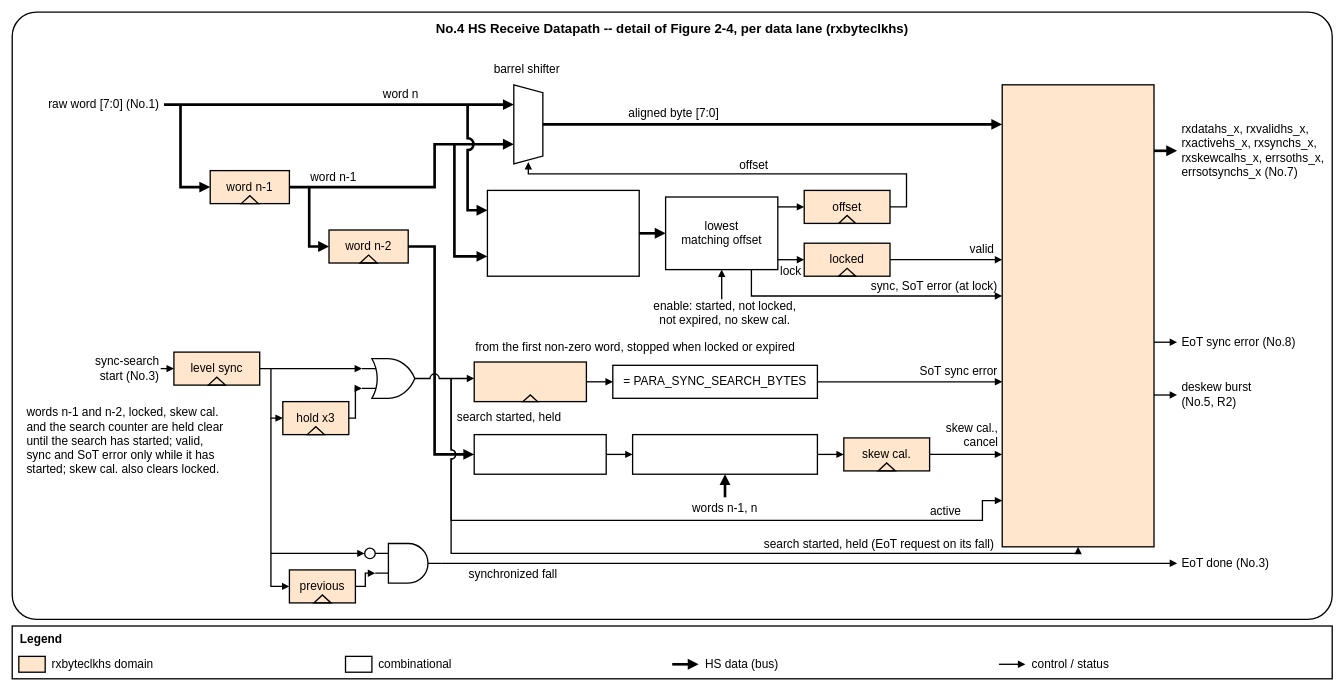
Some shapes in this 1344 by 690 pixel diagram are drawn without their labels. The centre of each missing label's shape, as x and y in pixels:
"16 ones from there in words n-2, n-1, n" goes at (725,454).
"EoT delay line and trailer removal Figure 4-9" goes at (1077,315).
"first-1 position" goes at (540,454).
"leader comparators: 8 offsets, each <= 1 bit differs" goes at (563,233).
"search counter" goes at (530,381).
